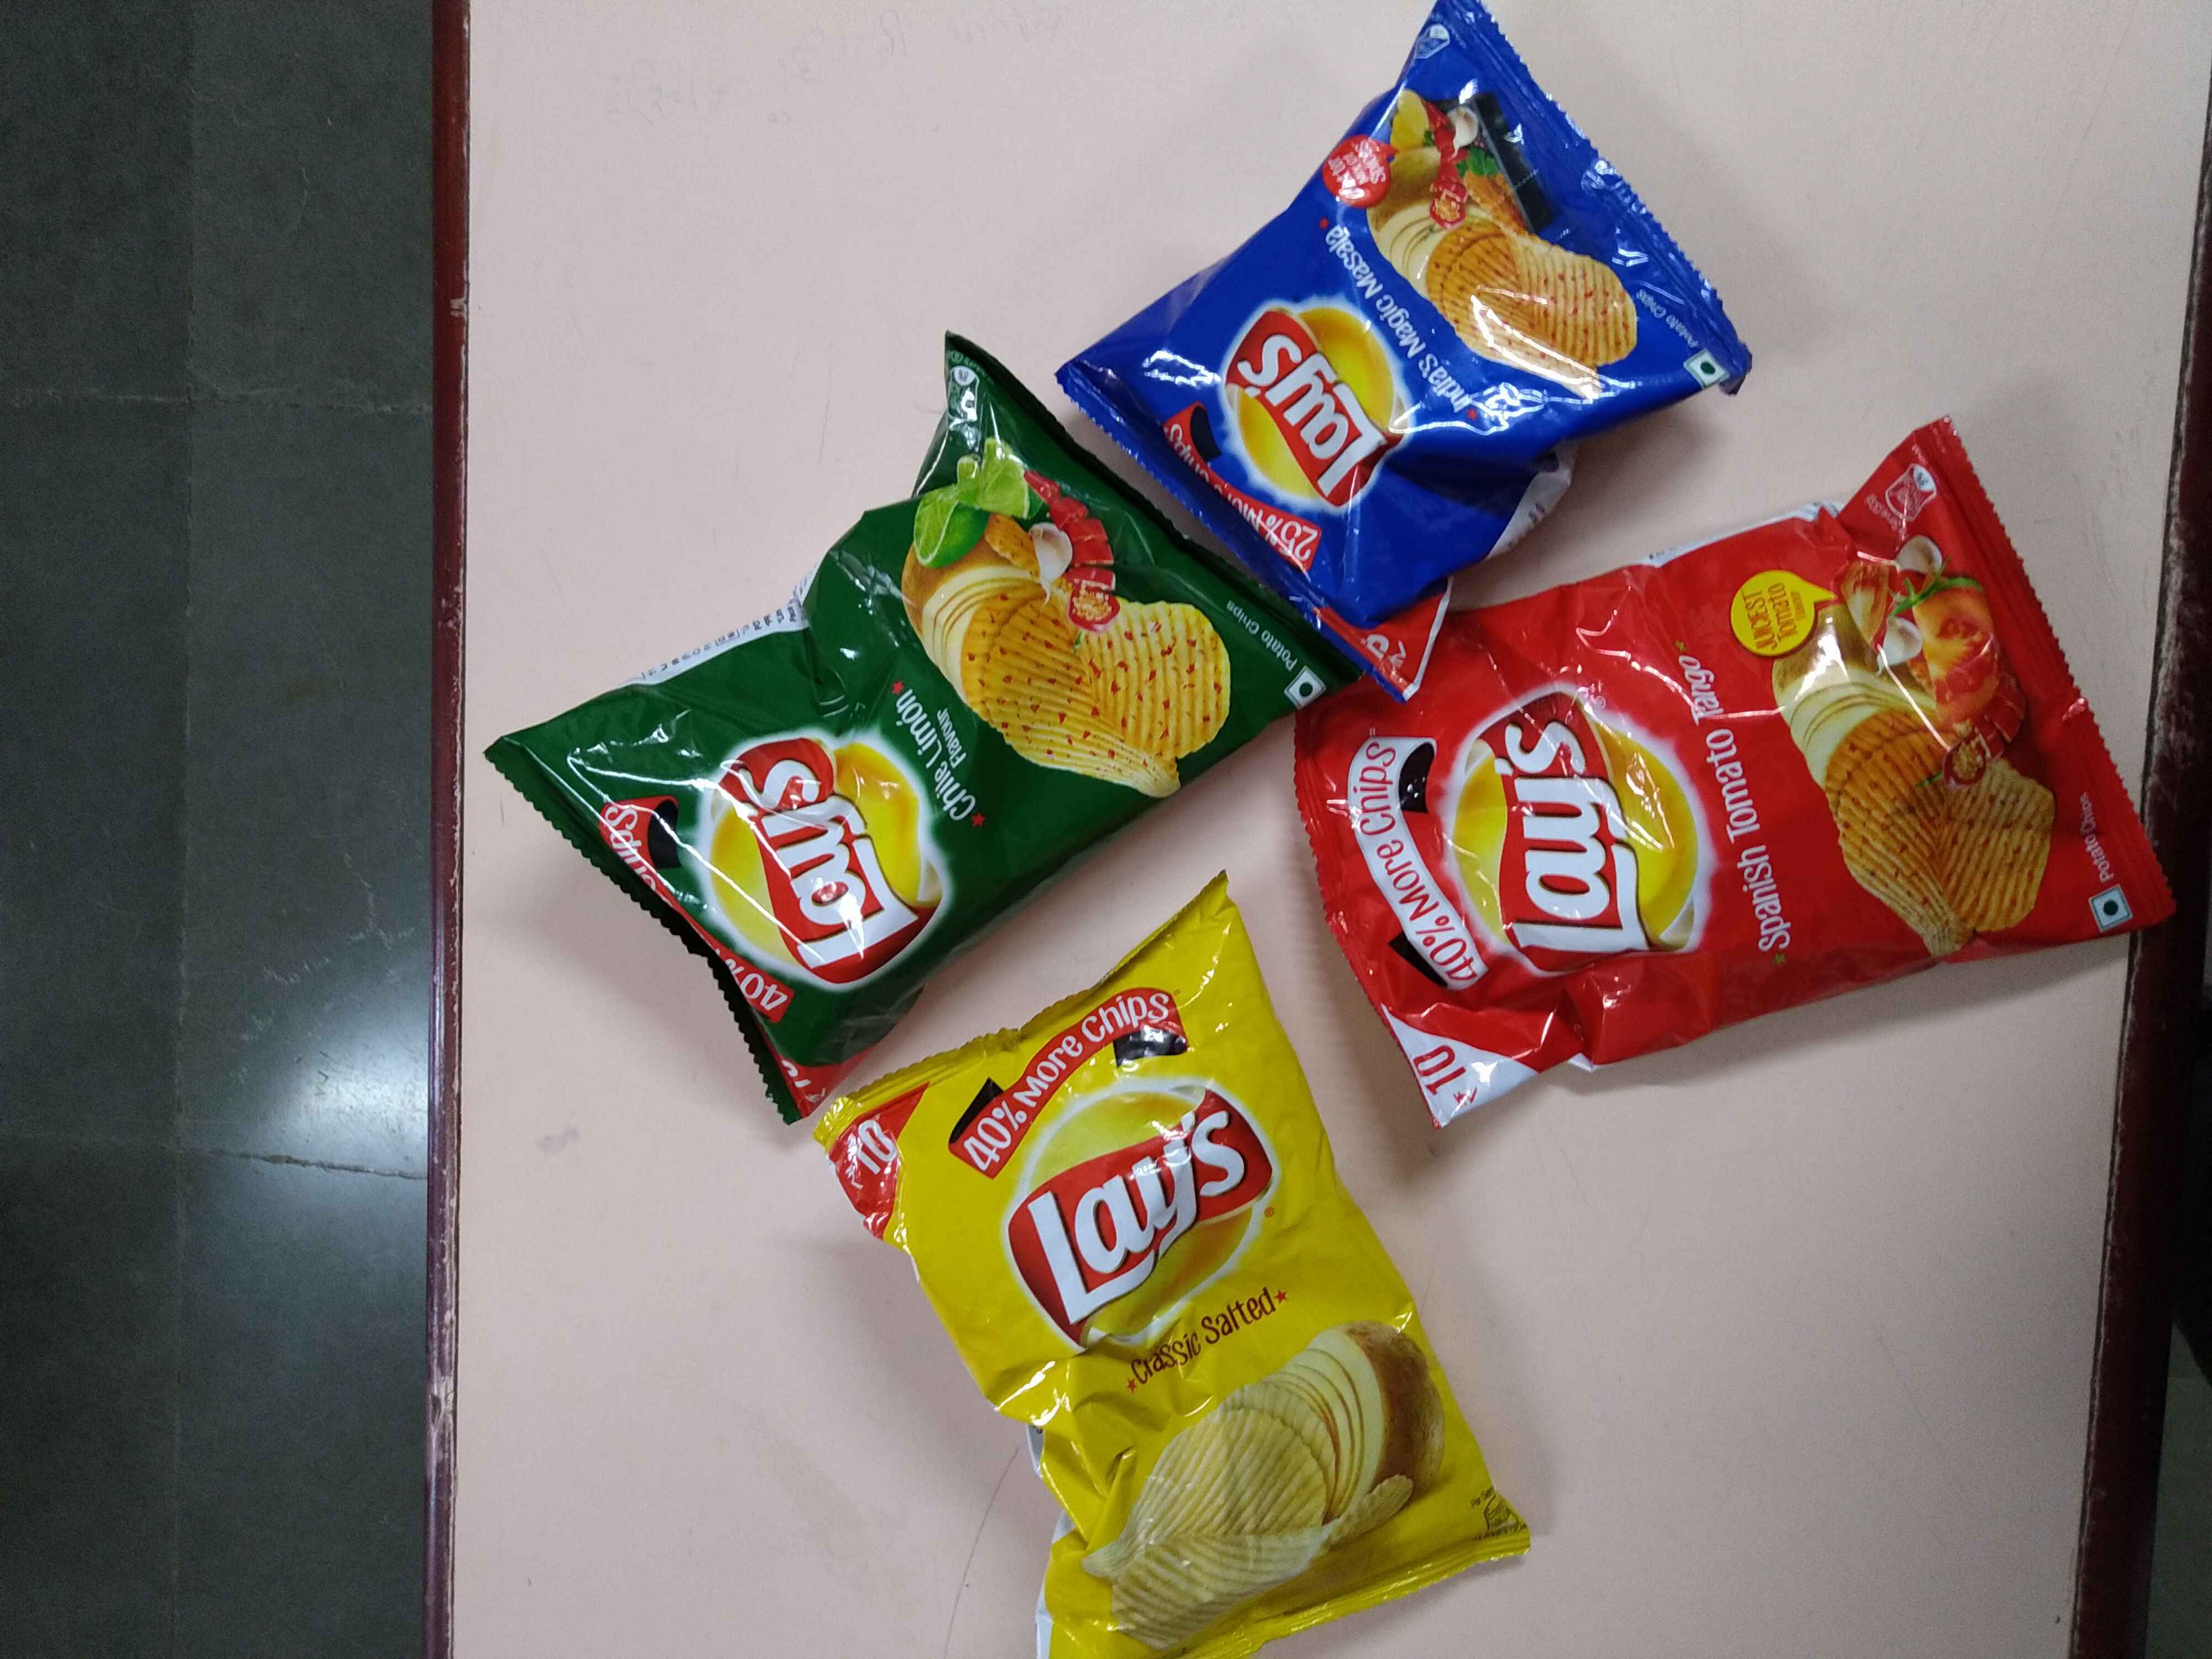Lays: (1460, 669, 1709, 1004), (1028, 1060, 1287, 1366), (704, 721, 965, 939), (1224, 289, 1423, 511)
